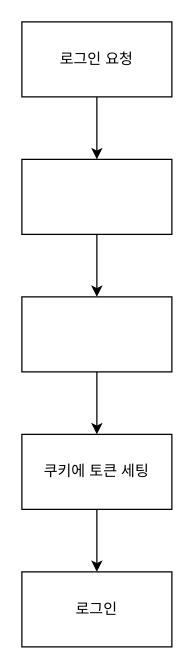
Image size: 194x669. Some labels were removed from this diagram. Here are the shapes that lost their labels. From the top down, the centre of each, then its label:
At (x=96, y=196): "아이디/비밀번호 일치여부".
At (x=96, y=334): "토큰 생성".
